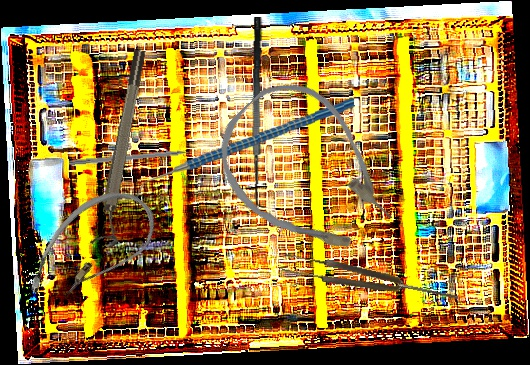Cannula: (195, 61, 419, 286), (15, 171, 168, 329)
Chopper: (130, 97, 358, 203)
Fixation Ring: (89, 48, 158, 249)
Pusher: (68, 148, 207, 167)
Spatula Surgical: (246, 16, 279, 209)
Tissue Forceps: (281, 250, 460, 310)
